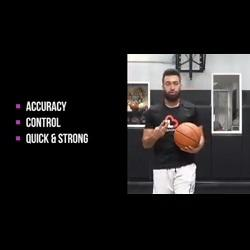BasketBall: (125, 51, 249, 195), (172, 120, 203, 153)
